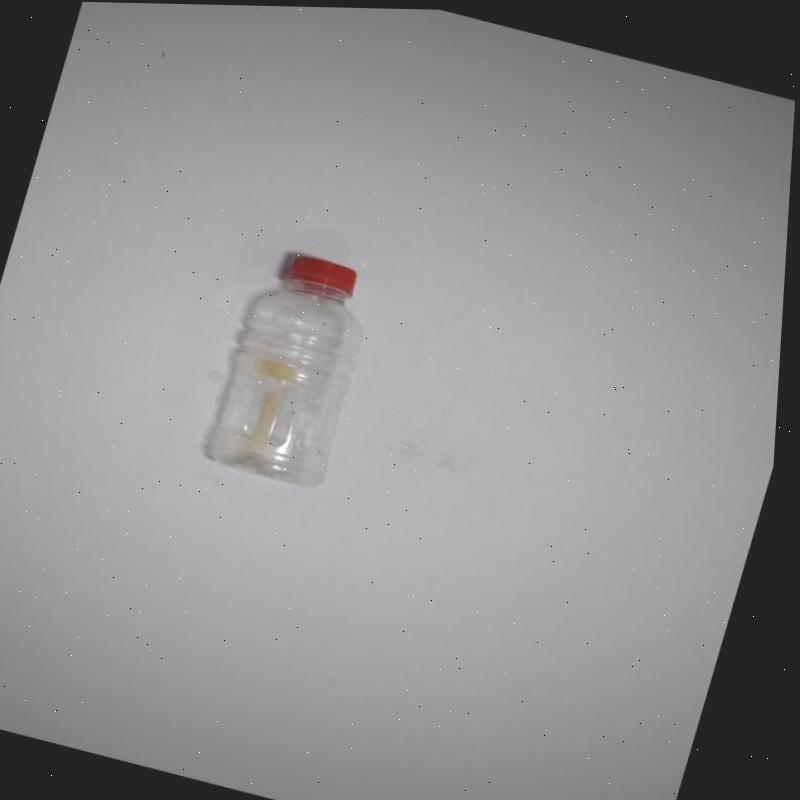botella: (198, 239, 395, 492)
